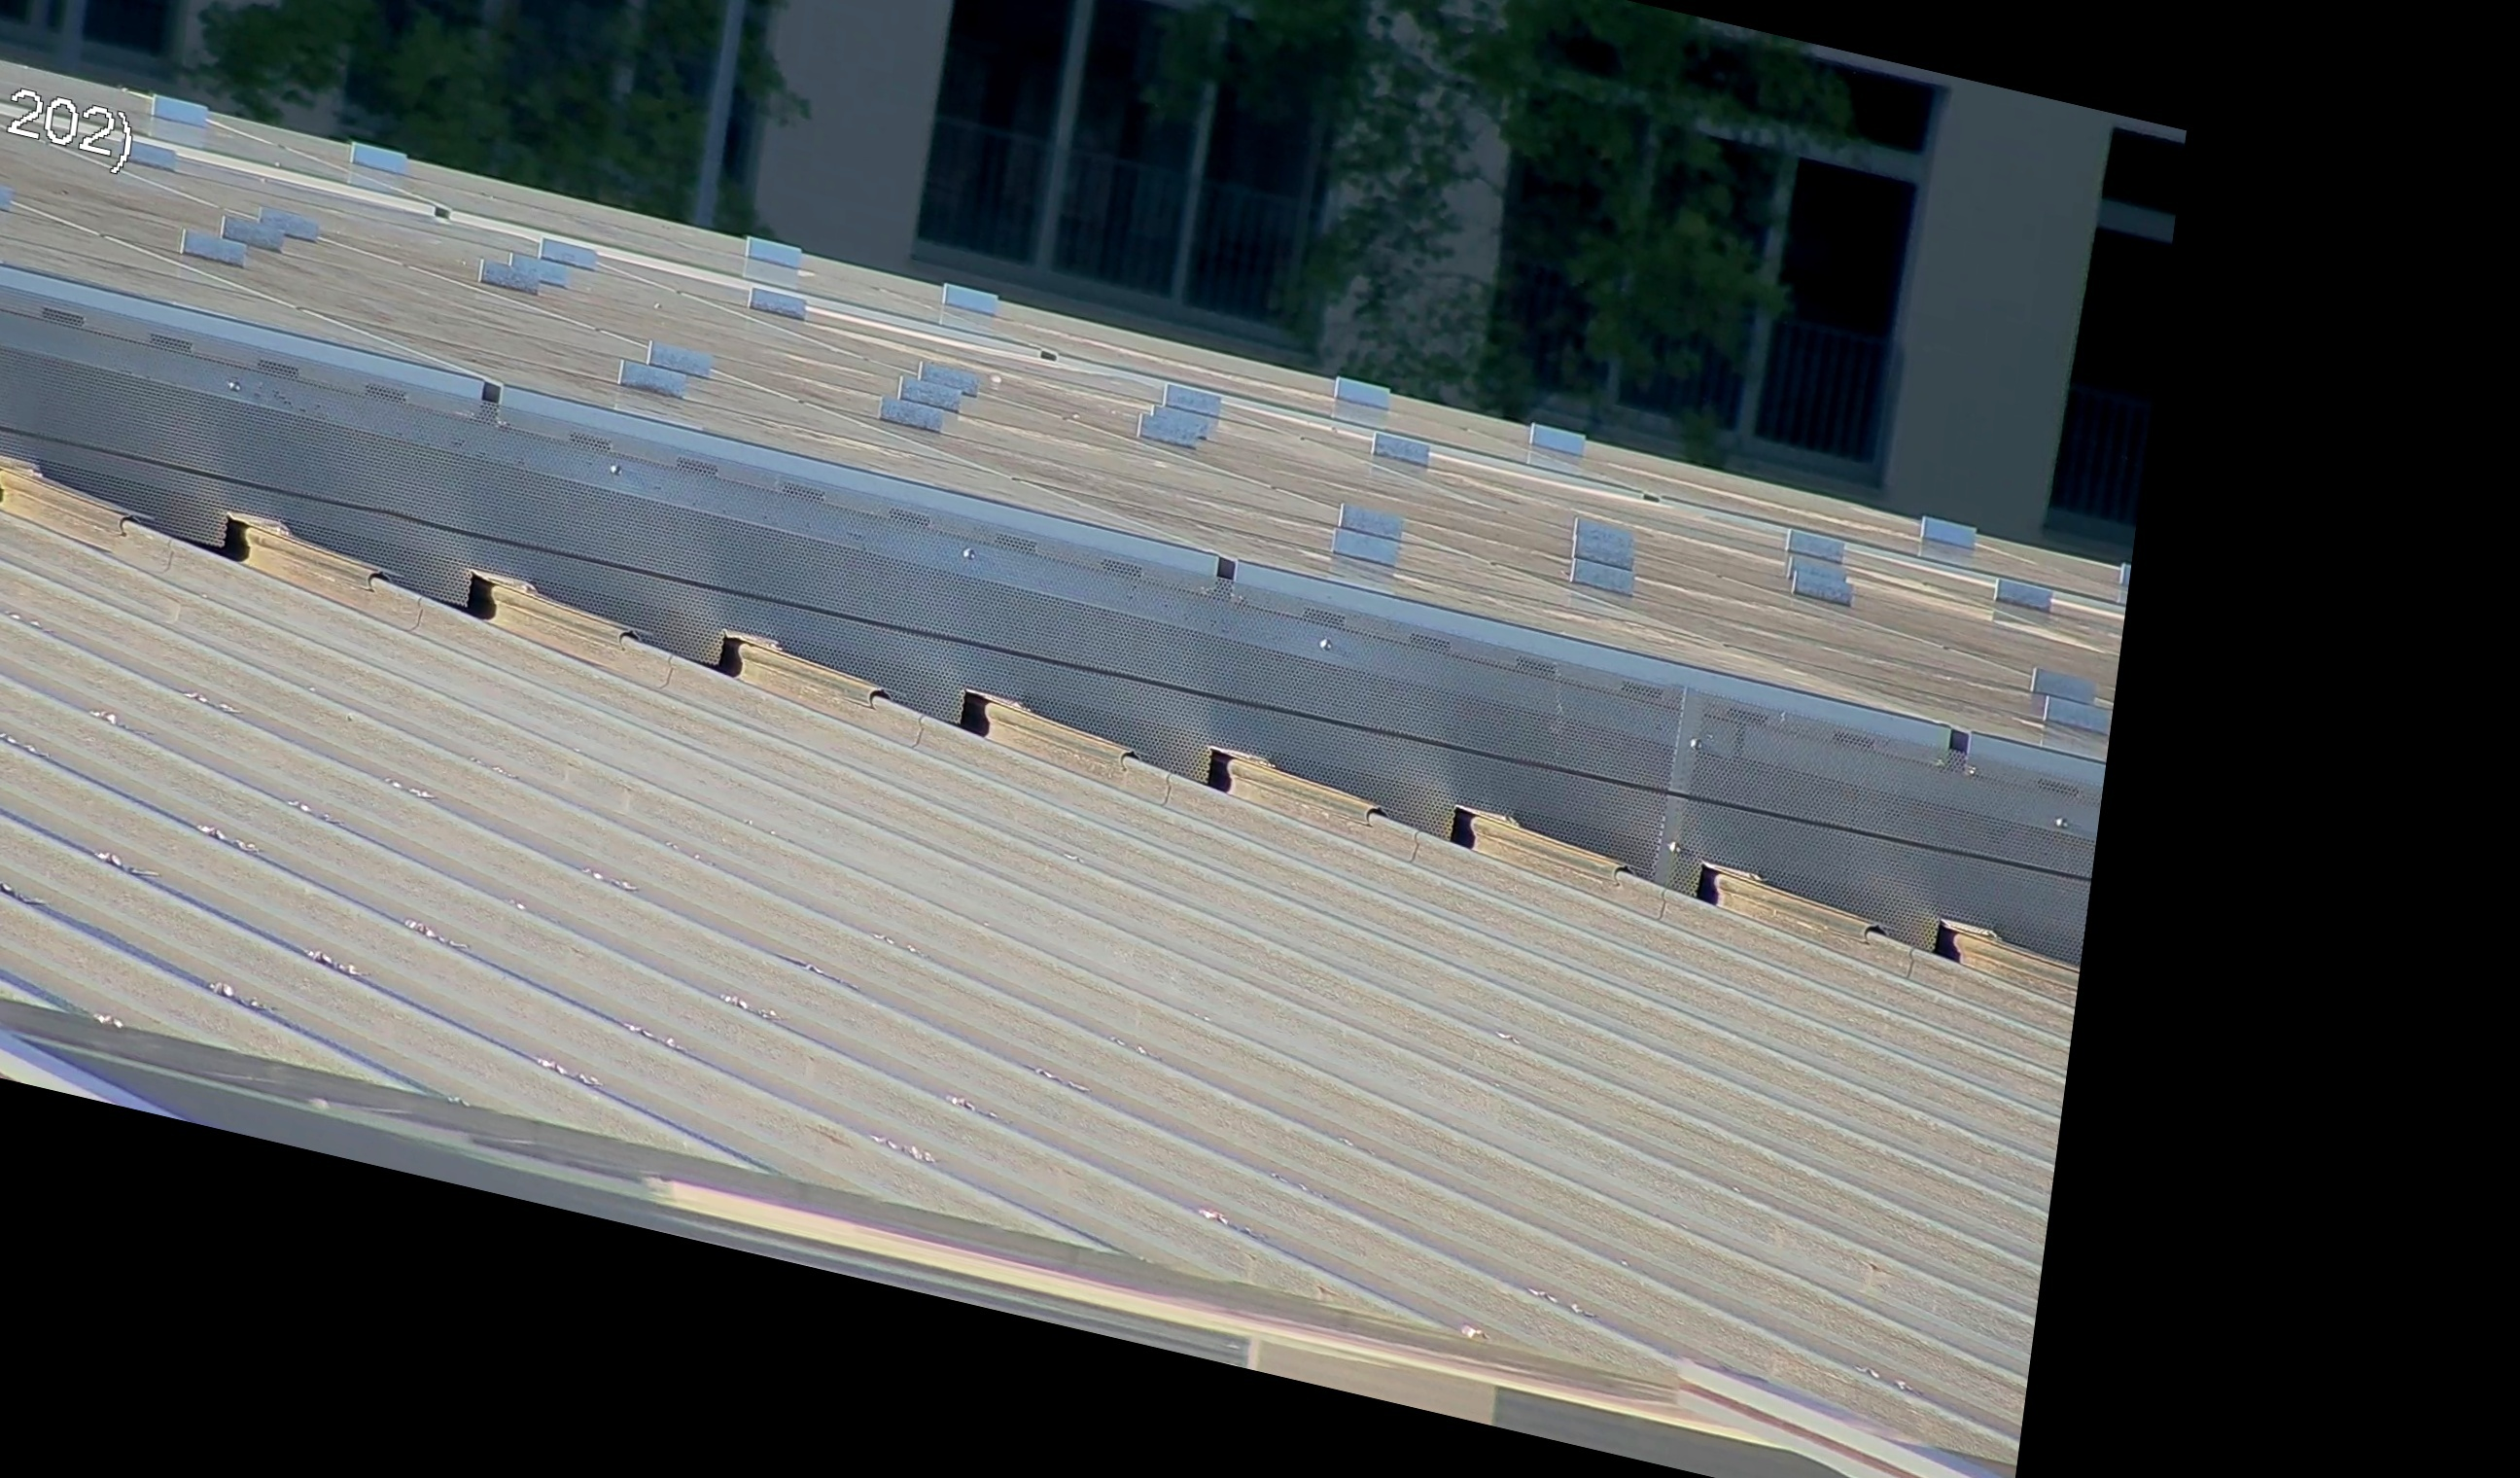Other: (0, 433, 5, 509)
